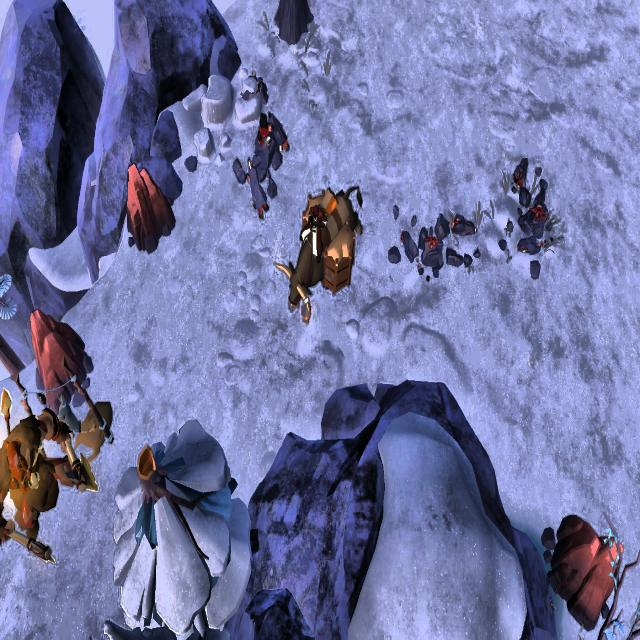rock_t5: (547, 510, 623, 626), (24, 308, 93, 408), (123, 164, 178, 255)
